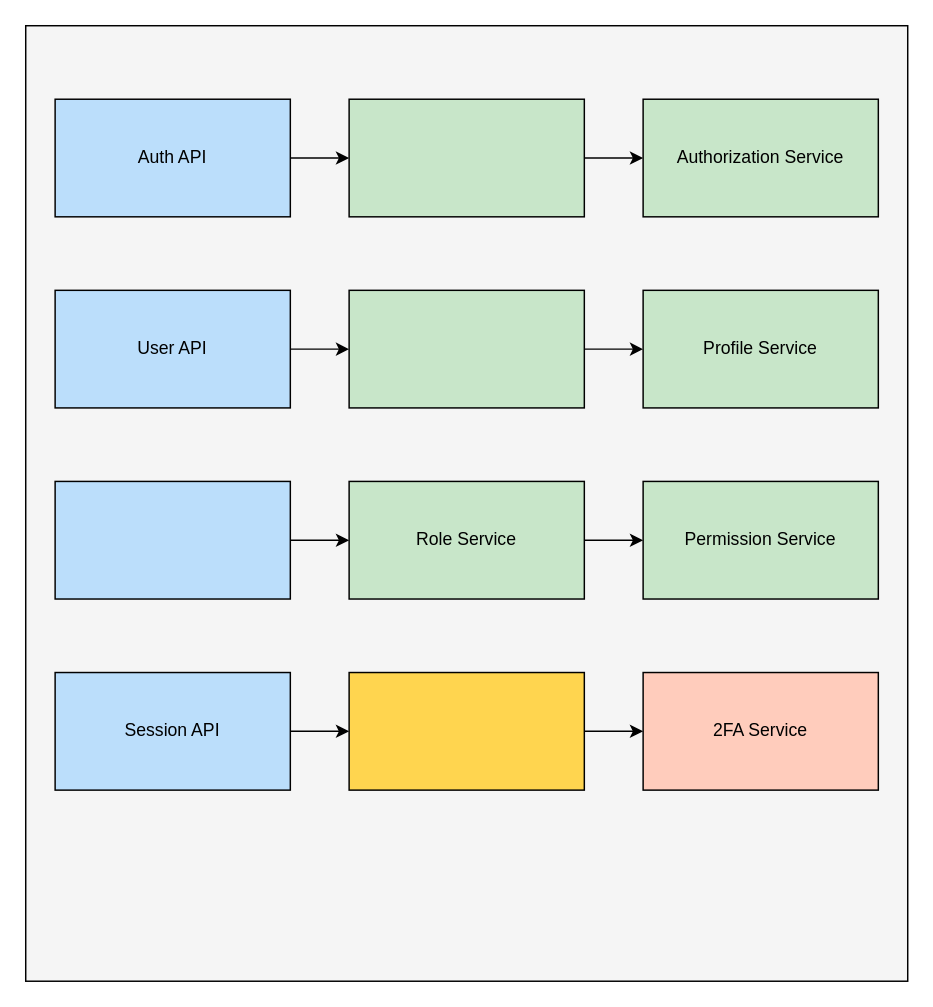
This 933x1007 diagram has some shape labels left out. The centre of each missing label's shape, as x and y in pixels:
"Authentication Service" belongs at point 466,157.
"Registration Service" belongs at point 466,348.
"Role API" belongs at point 172,539.
"Session Store (Redis)" belongs at point 466,730.
